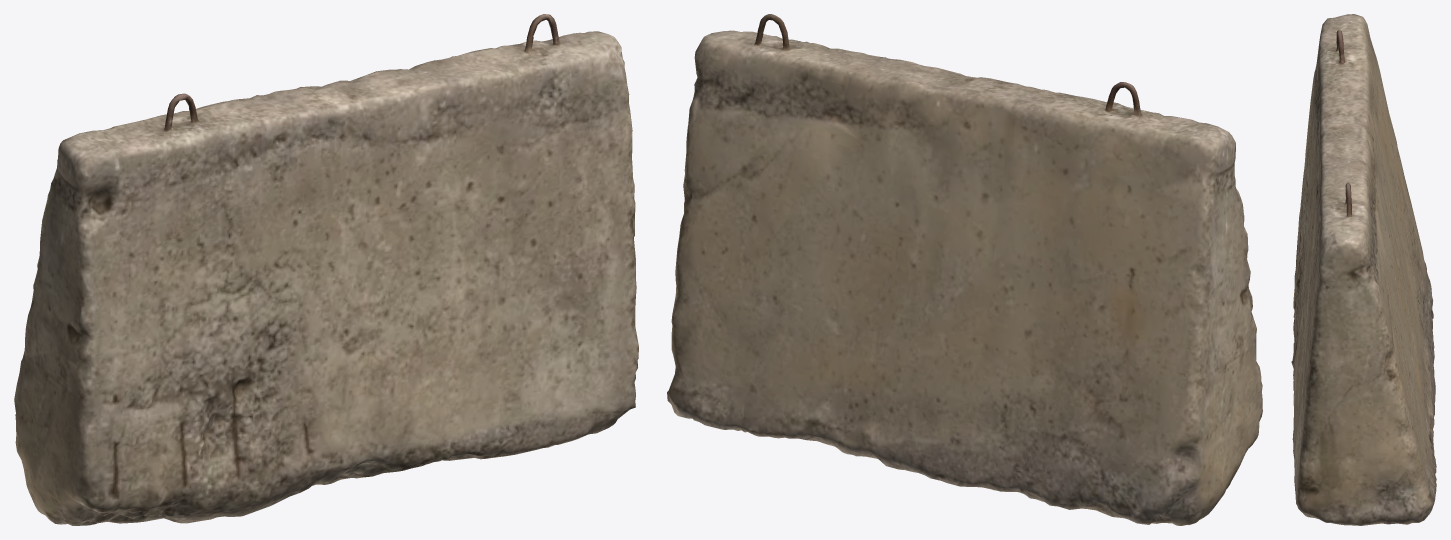
The model's file is concrete_road_barrier_02.glb.
The picture shows the model from 3 angles, left to right: view 1: azimuth 30°, elevation 25°; view 2: azimuth 150°, elevation 25°; view 3: azimuth 270°, elevation 25°; orthographic projection. The views are drawn at different scales.
Visible parts, largest first — view 1: concrete_road_barrier_02; view 2: concrete_road_barrier_02; view 3: concrete_road_barrier_02.
Part boxes in pixels (x1,y1,x2,y2): concrete_road_barrier_02: (14, 14, 638, 525); concrete_road_barrier_02: (667, 14, 1262, 525); concrete_road_barrier_02: (1291, 14, 1436, 525).
Size of the model in its own units: 1.57 by 1.11 by 0.4422.
1 material, 1 textured.
